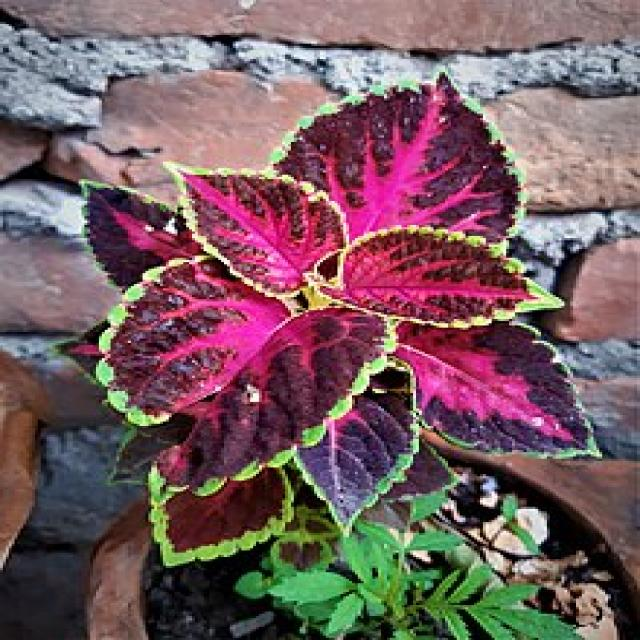Coleus: (67, 74, 590, 511)
